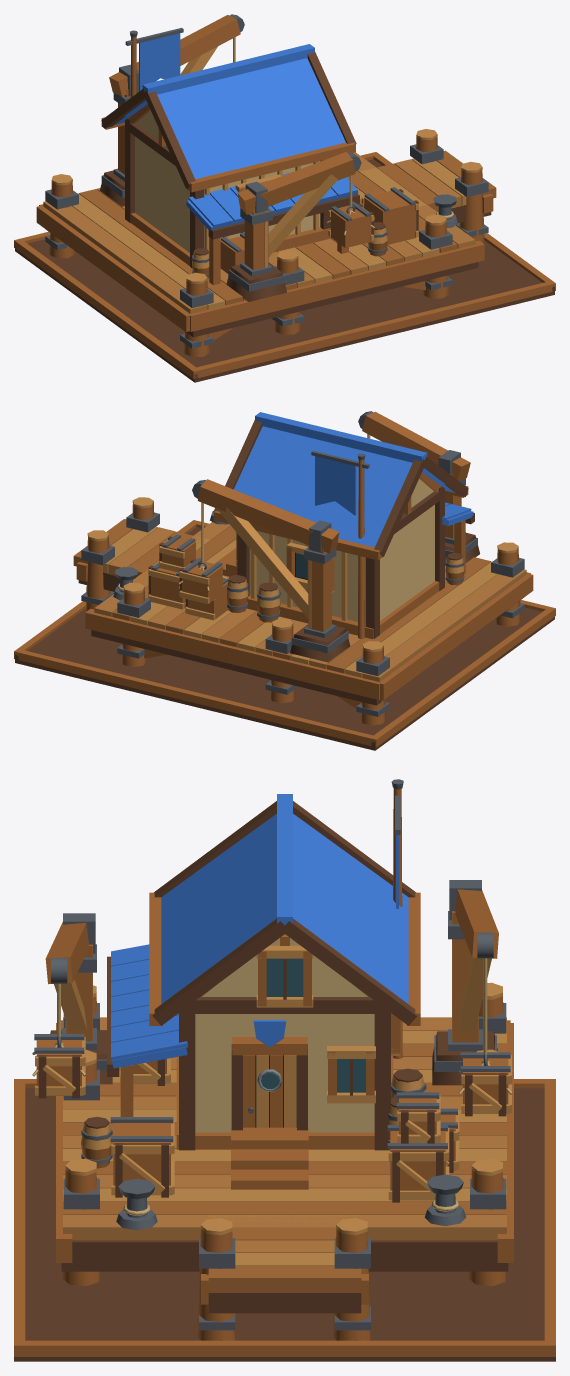
3 views of the same model, one above another, from view 1: azimuth 30°, elevation 25°; view 2: azimuth 150°, elevation 25°; view 3: azimuth 270°, elevation 25° (orthographic). The views are drawn at different scales.
Parts seen in each view (by area): view 1: base-solid, roof-underlay-1, deck-rim-0.88, house-main, base-side-1.058, rear-rim, main-plank-0, base-back-edge, starboard-crane-boom, roof-ridge, main-plank-1, roof-eave-1 (+40 smaller); view 2: base-solid, roof-underlay--1, house-main, deck-rim--0.88, base-side--1.058, rear-rim, port-heavy-crane-boom, main-plank-0, base-back-edge, roof-ridge, main-plank-1, port-heavy-crane-brace (+48 smaller); view 3: base-solid, roof-underlay-1, roof-underlay--1, house-main, base-front-edge, deck-underframe, main-plank-15, main-plank-14, pier-front-plank-4, main-plank-13, front-pier-underframe, base-side--1.058 (+62 smaller).
Part boxes in pixels (x1,y1,x2,y2): base-solid: (15,159,554,382); roof-underlay-1: (157,58,345,179); deck-rim-0.88: (186,240,484,331); house-main: (135,136,320,252); base-side-1.058: (195,282,551,377); rear-rim: (36,205,195,331); main-plank-0: (43,201,207,313); base-back-edge: (14,239,199,378); starboard-crane-boom: (237,152,355,214); roof-ridge: (142,44,314,94); main-plank-1: (72,193,225,309); roof-eave-1: (187,142,355,192); base-solid: (15,527,554,750); roof-underlay--1: (233,426,412,547); house-main: (249,504,434,623); deck-rim--0.88: (85,608,383,699); base-side--1.058: (18,650,373,746); rear-rim: (375,574,533,700); port-heavy-crane-boom: (197,479,339,553); main-plank-0: (362,569,526,681); base-back-edge: (370,607,555,747); roof-ridge: (255,412,427,462); main-plank-1: (344,561,497,677); port-heavy-crane-brace: (217,507,308,618); base-solid: (14,1088,555,1361); roof-underlay-1: (161,814,276,1003); roof-underlay--1: (293,814,408,1003); house-main: (195,1014,374,1132); base-front-edge: (14,1340,555,1356); deck-underframe: (61,1240,508,1271); main-plank-15: (63,1214,506,1240); main-plank-14: (63,1201,506,1214); pier-front-plank-4: (208,1266,361,1292); main-plank-13: (63,1188,506,1201); front-pier-underframe: (208,1293,361,1313); base-side--1.058: (544,1083,555,1341).
Bounding box in the file's own units: 2.55 × 1.6 × 2.16.
